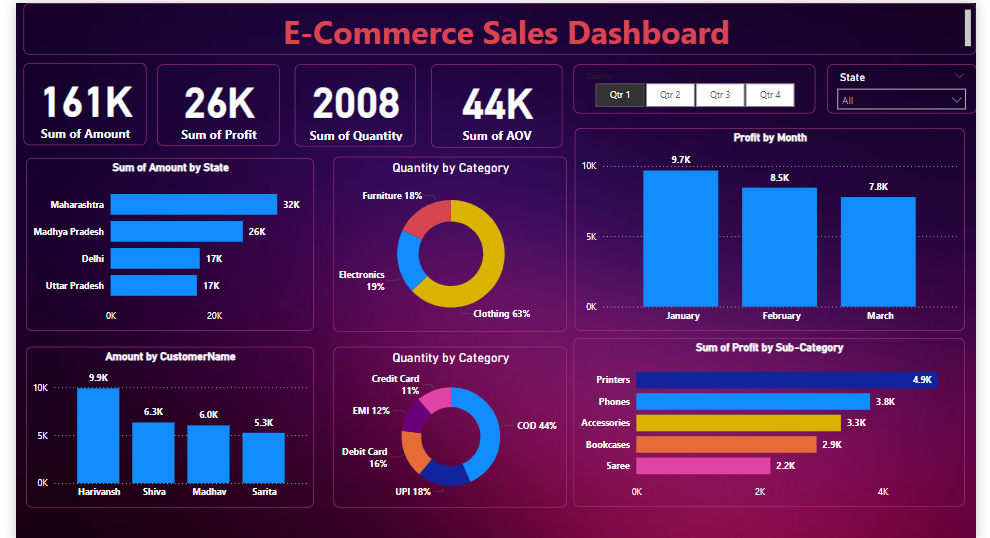

The dashboard page shown, as its layout file describes it:
{"tool":"powerbi","page":{"name":"Page 1","canvas":[1280,720],"ordinal":0},"visuals":[{"type":"textbox","box":[9.6,0,1270.7,68.6],"z":0},{"type":"columnChart","title":"Profit by Month","fields":{"Y":["Sum(Details.Profit)"],"Category":["Orders.Order Date.Variation.Date Hierarchy.Month"]},"box":[745.1,167.4,520.1,270.3],"z":1000},{"type":"barChart","fields":{"Category":["Details.Sub-Category"],"Y":["Sum(Details.Profit)"]},"box":[743.7,447.3,521.4,225],"z":2000},{"type":"donutChart","title":"Quantity by Category","fields":{"Category":["Details.Category"],"Y":["Sum(Details.Quantity)"]},"box":[422.6,204.5,311.5,233.3],"z":3000},{"type":"donutChart","title":"Quantity by Category","fields":{"Y":["Sum(Details.Quantity)"],"Category":["Details.PaymentMode"]},"box":[422.6,458.3,311.5,214.1],"z":4000},{"type":"card","fields":{"Values":["Sum(Details.Amount)"]},"box":[9.7,80.8,164.1,109.8],"z":5000},{"type":"card","fields":{"Values":["Sum(Details.Profit)"]},"box":[188.2,82,162.9,108.6],"z":6000},{"type":"card","fields":{"Values":["Sum(Details.Quantity)"]},"box":[371.6,82,161.7,109.8],"z":7000},{"type":"card","fields":{"Values":["Sum(Details.AOV)"]},"box":[552.5,82,174.9,111],"z":8000},{"type":"barChart","fields":{"Category":["Orders.State"],"Y":["Sum(Details.Amount)"]},"box":[13.7,207.2,384.2,230.5],"z":9000},{"type":"columnChart","title":"Amount by CustomerName","fields":{"Category":["Orders.CustomerName"],"Y":["Sum(Details.Amount)"]},"box":[14,458,384,214],"z":10000},{"type":"slicer","fields":{"Values":["Orders.Order Date.Variation.Date Hierarchy.Quarter"]},"box":[743.7,81,322.5,65.9],"z":11000},{"type":"slicer","fields":{"Values":["Orders.State"]},"box":[1081.3,81,199,65.9],"z":12000}]}

Visuals, with their boxes on the page's 1280x720 design canvas (x1, y1, x2, y2). These are canvas units, not pixel positions in the 990x538 screenshot, which may show the page scaled, cropped or inside an application window:
textbox: select_region(10, 0, 1280, 69)
"Profit by Month" columnChart: select_region(745, 167, 1265, 438)
barChart - Details.Sub-Category x Sum(Details.Profit): select_region(744, 447, 1265, 672)
"Quantity by Category" donutChart: select_region(423, 204, 734, 438)
"Quantity by Category" donutChart: select_region(423, 458, 734, 672)
card - Sum(Details.Amount): select_region(10, 81, 174, 191)
card - Sum(Details.Profit): select_region(188, 82, 351, 191)
card - Sum(Details.Quantity): select_region(372, 82, 533, 192)
card - Sum(Details.AOV): select_region(552, 82, 727, 193)
barChart - Orders.State x Sum(Details.Amount): select_region(14, 207, 398, 438)
"Amount by CustomerName" columnChart: select_region(14, 458, 398, 672)
slicer - Orders.Order Date.Variation.Date Hierarchy.Quarter: select_region(744, 81, 1066, 147)
slicer - Orders.State: select_region(1081, 81, 1280, 147)
